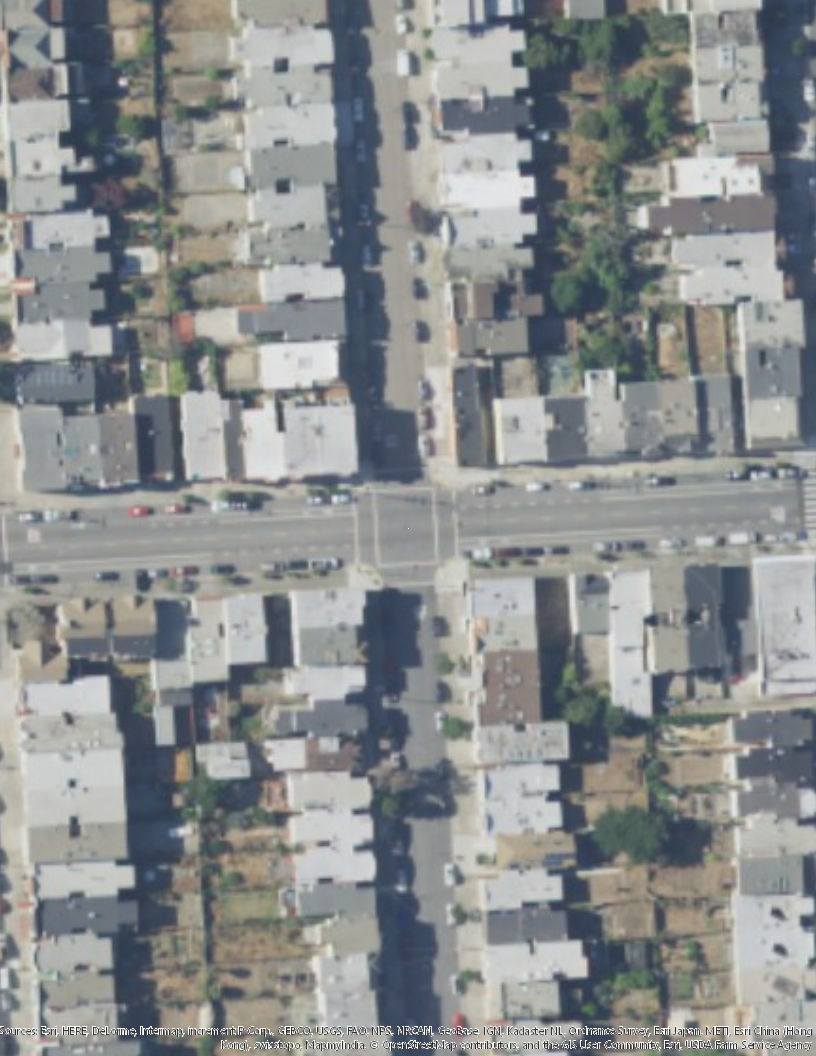zebracross: (802, 471, 816, 530)
